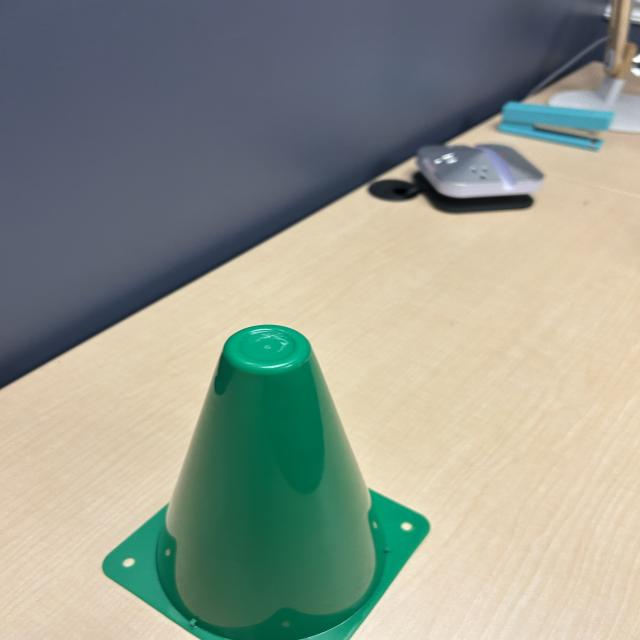green cone: (84, 319, 441, 640)
